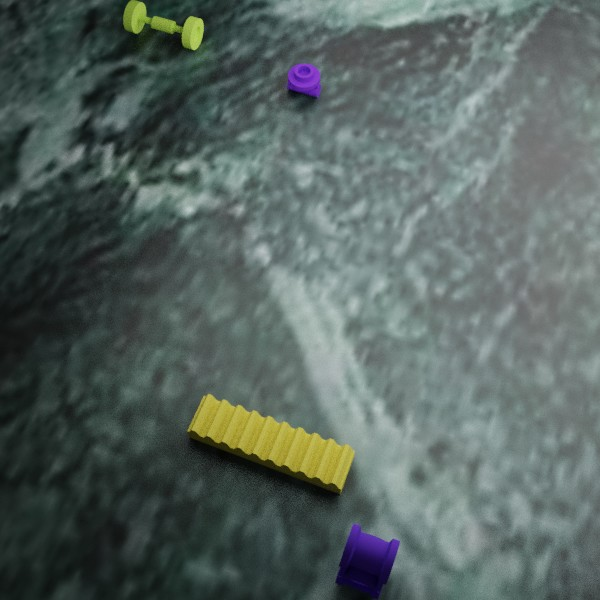lego: (187, 393, 354, 494), (335, 523, 400, 600), (123, 0, 203, 50), (287, 63, 321, 97)
